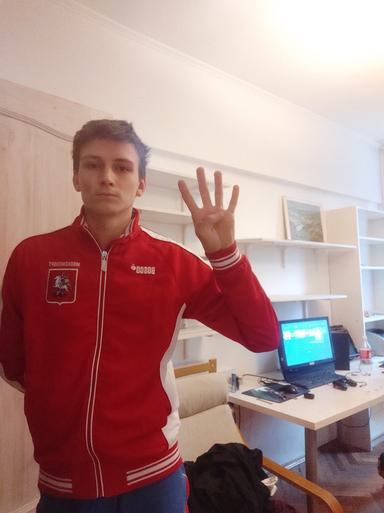four: (176, 165, 241, 254)
